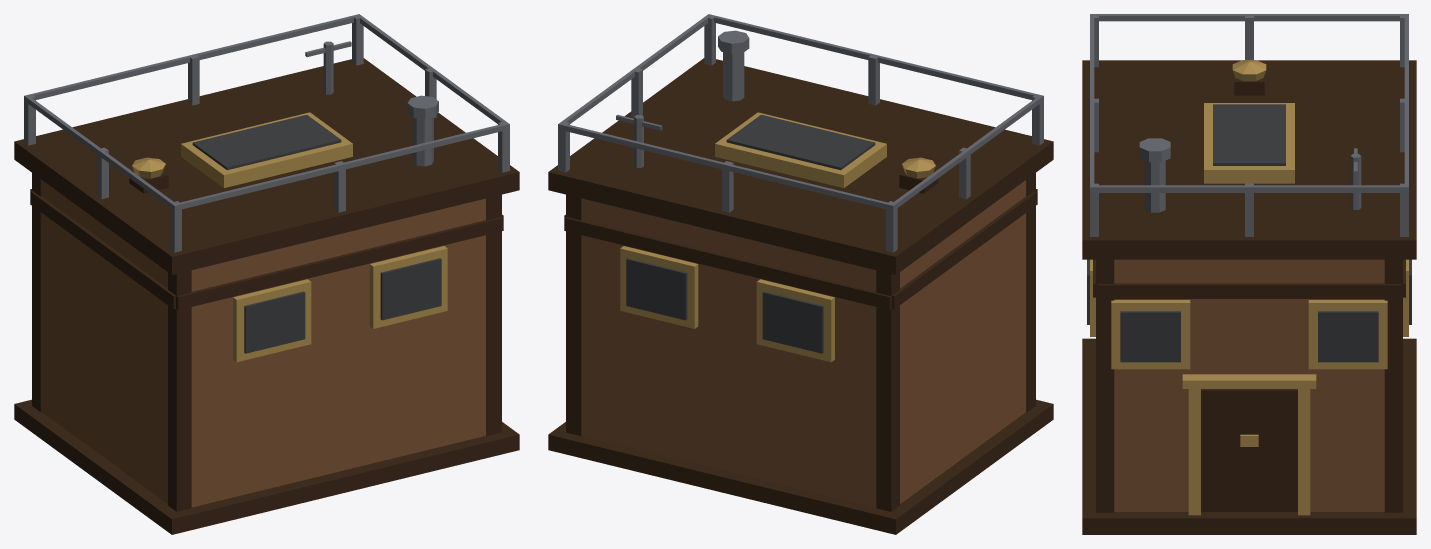
File: SN_Nav_Chart_Room.glb
3 renders of one model, left to right at view 1: azimuth 30°, elevation 25°; view 2: azimuth 150°, elevation 25°; view 3: azimuth 270°, elevation 25°, orthographic. The views are drawn at different scales.
Visible parts, largest first — view 1: SN_Nav_Chart_Room; view 2: SN_Nav_Chart_Room; view 3: SN_Nav_Chart_Room.
Boxes of the visible parts, x1,y1,x2,y2 form: SN_Nav_Chart_Room: (14, 14, 519, 534); SN_Nav_Chart_Room: (548, 14, 1053, 534); SN_Nav_Chart_Room: (1082, 14, 1416, 534).
Bounding box in the file's own units: 2.8 × 2.6 × 2.2.
